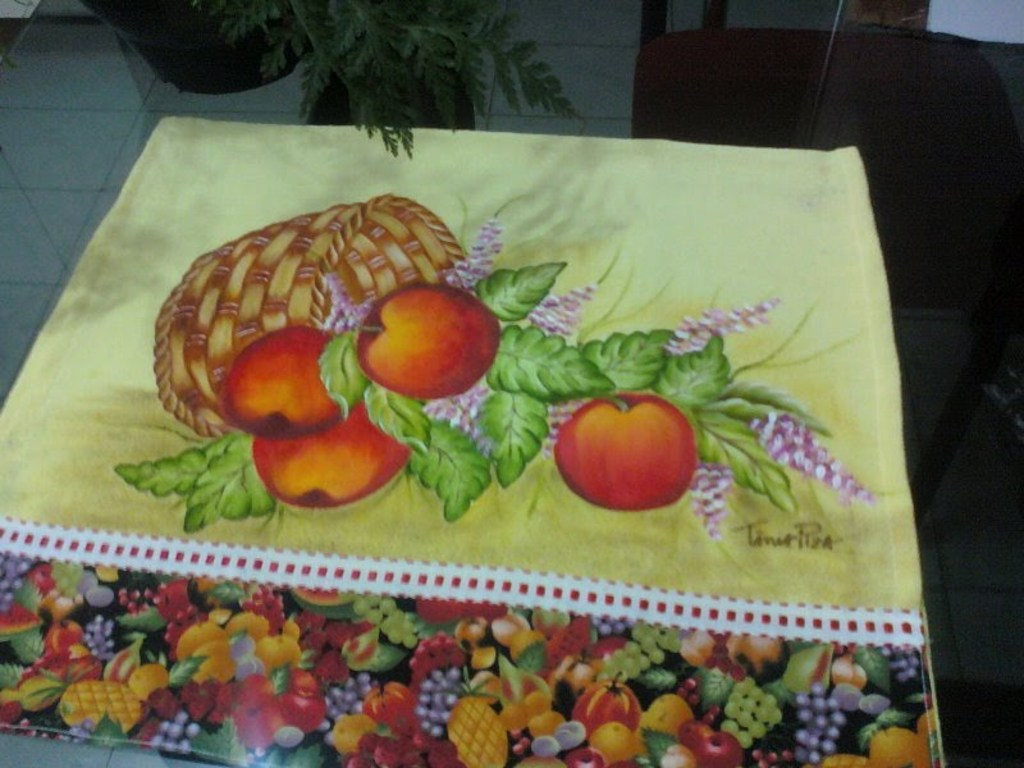Apple: (245, 399, 409, 506), (540, 400, 695, 512), (217, 323, 364, 437), (354, 289, 501, 398), (234, 698, 281, 755), (692, 730, 752, 766), (277, 687, 322, 727), (565, 744, 601, 766)
